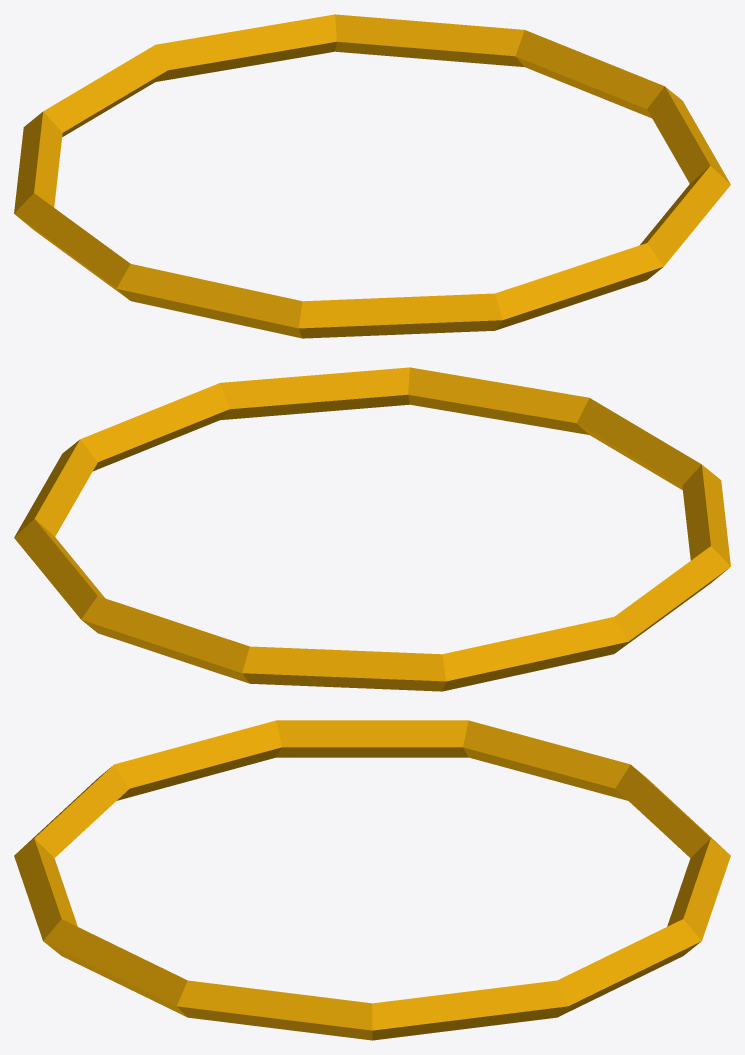
Rendered from GlassTip.fbx.
The picture shows the model from 3 angles, top to bottom: view 1: azimuth 30°, elevation 25°; view 2: azimuth 150°, elevation 25°; view 3: azimuth 270°, elevation 25°; orthographic projection.
Parts seen in each view (by area): view 1: Torus; view 2: Torus; view 3: Torus.
Part boxes in pixels (box(x1,y1,x2,y2)): Torus: box(14, 14, 730, 338); Torus: box(14, 367, 730, 691); Torus: box(14, 720, 730, 1040).
Bounding box in the file's own units: 2.1 × 2.08 × 0.12.
